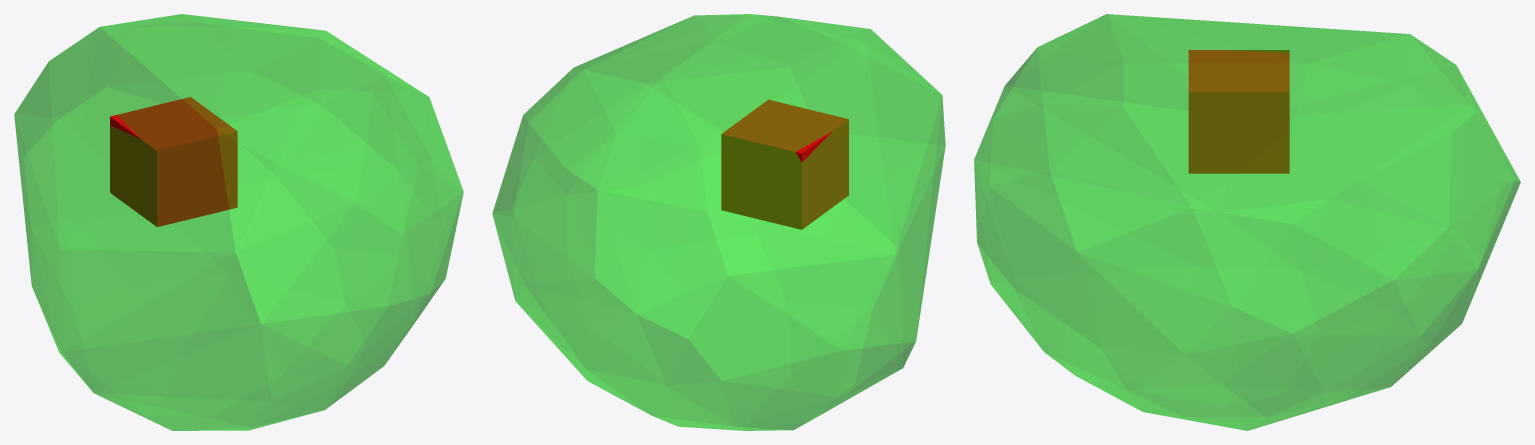
Rendered from Head_view.dae.
3 renders of one model, left to right at view 1: azimuth 30°, elevation 25°; view 2: azimuth 150°, elevation 25°; view 3: azimuth 270°, elevation 25°, orthographic. The views are drawn at different scales.
Parts seen in each view (by area): view 1: Foot_rom_001, Head_box; view 2: Foot_rom_001, Head_box; view 3: Foot_rom_001, Head_box.
Boxes of the visible parts, x1,y1,x2,y2 form: Foot_rom_001: (14, 14, 463, 430); Head_box: (110, 97, 237, 226); Foot_rom_001: (492, 14, 945, 430); Head_box: (721, 99, 848, 229); Foot_rom_001: (974, 14, 1520, 430); Head_box: (1188, 50, 1289, 173).
Size of the model in its own units: 1.07 by 1.25 by 0.94.
